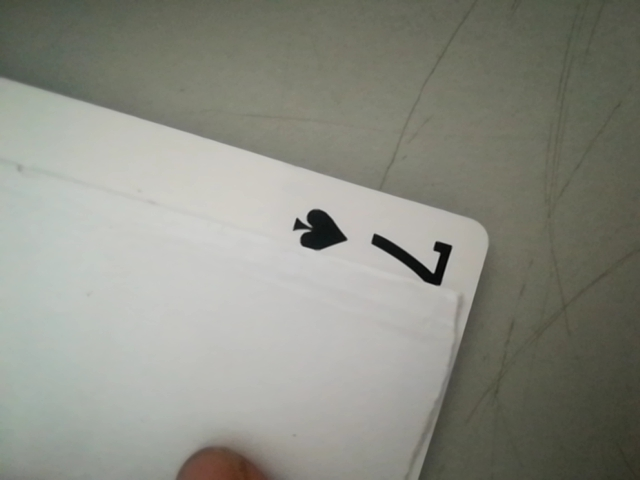ht 7: (274, 205, 476, 289)
